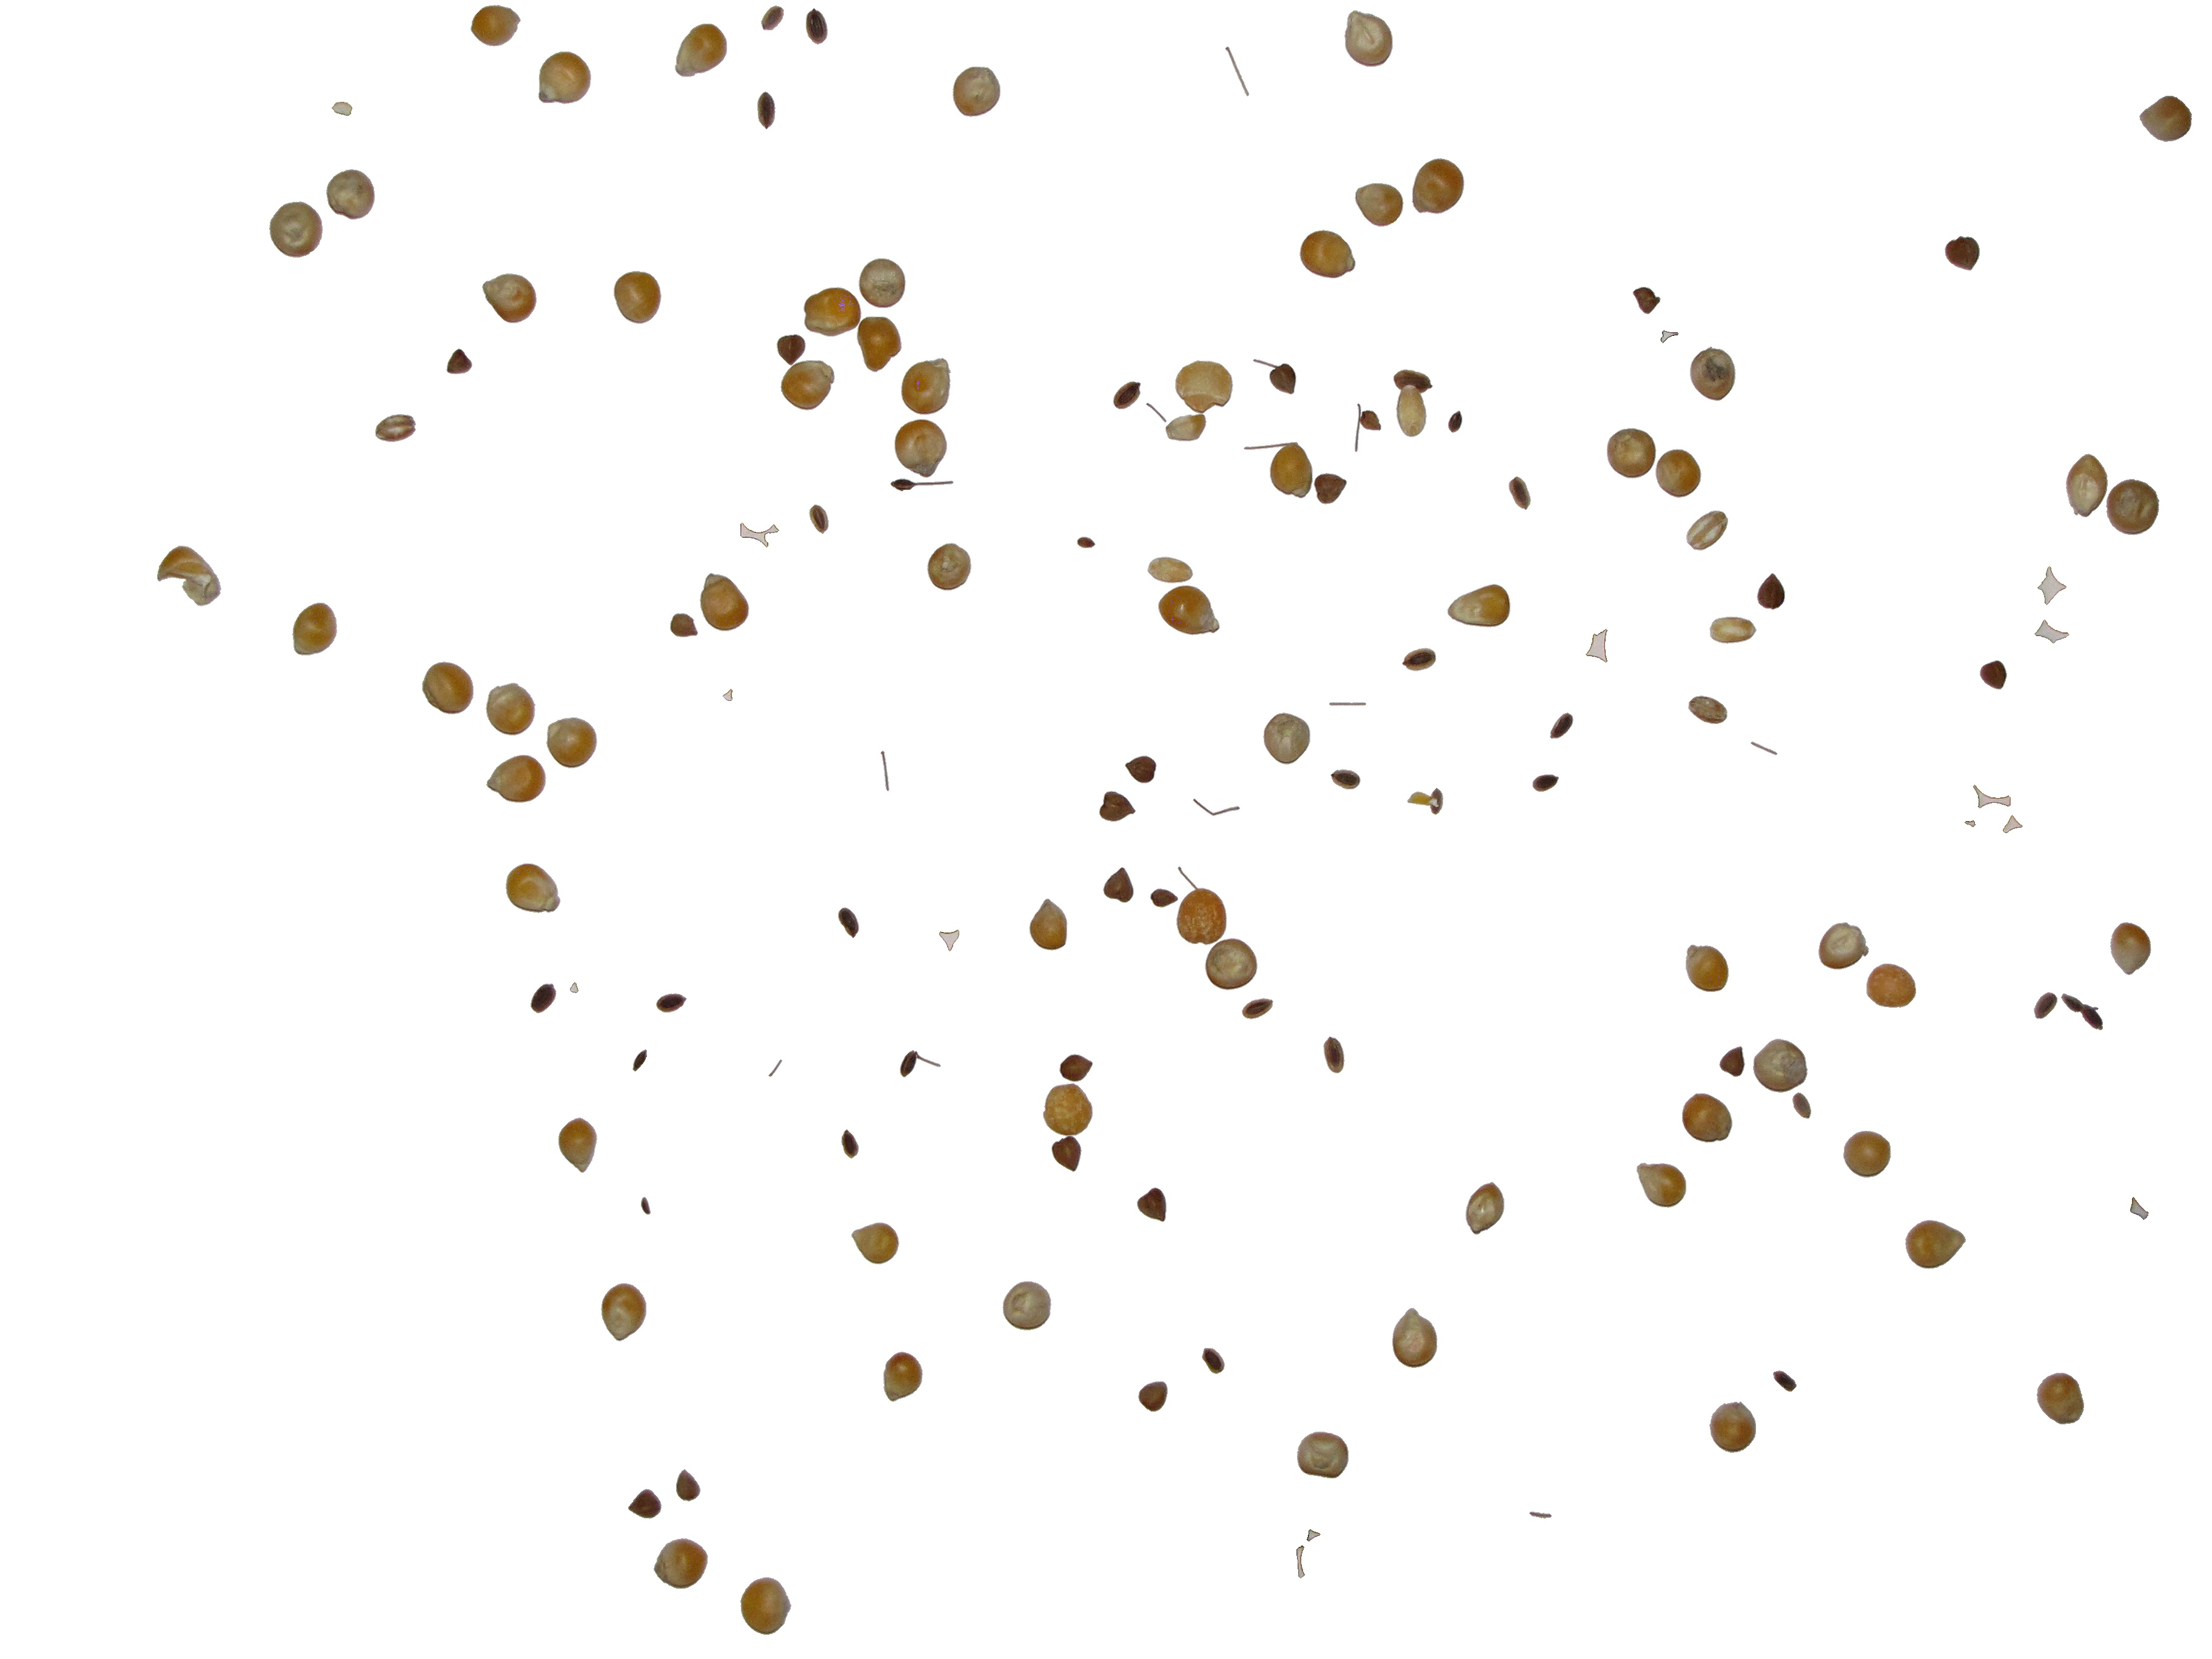buckwheat: (2062, 993, 2102, 1030), (1254, 359, 1296, 394), (1355, 404, 1381, 451), (1946, 237, 1979, 270), (1099, 791, 1136, 821), (1165, 415, 1205, 441), (1104, 868, 1134, 903), (1052, 1136, 1082, 1171), (1137, 1187, 1165, 1220), (629, 1490, 660, 1518), (777, 335, 805, 364), (1139, 1382, 1167, 1412), (1125, 756, 1157, 782), (1061, 1054, 1092, 1080), (1113, 382, 1141, 410), (1980, 660, 2006, 688), (806, 9, 827, 44), (678, 1469, 700, 1500), (1510, 476, 1531, 509), (1634, 288, 1660, 314), (531, 985, 556, 1012), (758, 92, 775, 129), (838, 908, 859, 938), (448, 349, 472, 373), (2034, 993, 2057, 1019), (657, 993, 686, 1012), (761, 3, 784, 28), (1202, 1349, 1224, 1373), (841, 1131, 859, 1161), (1792, 1093, 1811, 1119), (634, 1051, 650, 1079), (1773, 1371, 1796, 1391), (941, 931, 958, 951), (881, 751, 888, 791), (1449, 411, 1461, 432), (768, 1060, 782, 1077), (723, 690, 732, 701), (571, 983, 578, 993)
dill: (1226, 47, 1249, 96), (900, 1051, 941, 1077), (737, 523, 775, 547), (810, 505, 829, 533), (1078, 537, 1096, 547), (1329, 702, 1366, 706)
mais: (1244, 443, 1312, 498), (1177, 868, 1226, 945), (158, 547, 221, 606), (1176, 361, 1233, 413), (1158, 586, 1219, 634), (2106, 479, 2158, 535), (270, 202, 322, 258), (740, 1577, 791, 1635), (895, 420, 946, 477), (1905, 1220, 1965, 1269), (1754, 1039, 1806, 1093), (700, 573, 749, 631), (1447, 584, 1510, 627), (538, 52, 590, 105), (1413, 159, 1463, 213), (902, 359, 951, 415), (805, 288, 860, 336), (676, 24, 726, 77), (423, 662, 474, 714), (1205, 939, 1258, 990), (482, 274, 536, 322), (780, 361, 834, 410), (507, 864, 561, 913), (1299, 230, 1355, 277), (1345, 10, 1392, 66), (488, 756, 545, 802), (1393, 1309, 1437, 1368), (547, 718, 597, 769), (2066, 455, 2107, 516), (486, 683, 535, 735), (655, 1539, 707, 1588), (1043, 1084, 1092, 1136), (601, 1284, 646, 1340), (1683, 1094, 1731, 1143), (1608, 429, 1656, 477), (327, 169, 374, 220), (953, 66, 1000, 117), (857, 317, 900, 371), (1691, 347, 1735, 401), (2141, 96, 2191, 141), (1818, 924, 1869, 969), (1710, 1401, 1756, 1452), (1264, 713, 1310, 763), (2038, 1373, 2083, 1424), (1298, 1432, 1348, 1478), (615, 272, 660, 322), (293, 603, 336, 655), (859, 260, 906, 307), (1003, 1283, 1050, 1330), (1637, 1162, 1686, 1208), (1656, 450, 1702, 497), (1355, 183, 1404, 227), (1867, 964, 1916, 1007), (559, 1119, 597, 1173), (1844, 1131, 1890, 1176), (2111, 924, 2151, 974), (928, 544, 970, 591), (1686, 945, 1728, 992), (472, 5, 521, 45), (1029, 899, 1068, 950), (852, 1223, 899, 1263), (885, 1352, 923, 1401), (1467, 1183, 1503, 1234)
other: (1688, 511, 1728, 551), (1393, 389, 1423, 437), (1710, 617, 1756, 643), (1148, 558, 1193, 582), (2038, 566, 2066, 605), (1757, 573, 1785, 610), (1689, 695, 1726, 723), (1313, 474, 1346, 504), (1407, 788, 1444, 814), (381, 415, 415, 443), (2034, 620, 2069, 643), (1719, 1047, 1745, 1077), (1973, 786, 2010, 807), (1324, 1037, 1345, 1073), (1402, 648, 1435, 671), (1193, 800, 1240, 816), (1587, 629, 1608, 662), (890, 479, 953, 490), (1242, 999, 1273, 1019), (1148, 889, 1177, 910), (1550, 713, 1573, 739), (671, 613, 697, 636), (1332, 770, 1362, 789), (1533, 775, 1559, 791), (2130, 1197, 2148, 1220), (1146, 403, 1165, 422), (2003, 816, 2022, 833), (1750, 742, 1777, 755), (333, 103, 352, 115), (1298, 1546, 1305, 1577), (641, 1197, 650, 1215), (1308, 1530, 1320, 1540), (1529, 1513, 1552, 1518), (1965, 821, 1975, 826)
